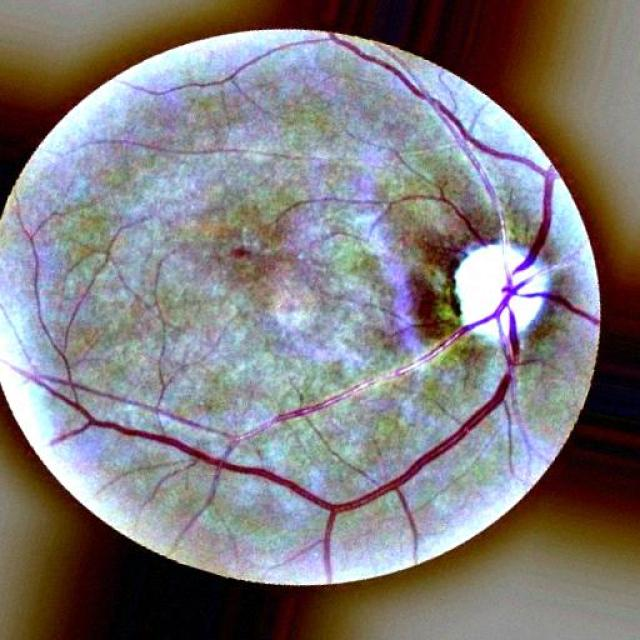Macula: (232, 246, 250, 258)
Nerves: (80, 40, 599, 575), (430, 196, 482, 239)
Optic Disk: (454, 244, 559, 359)
